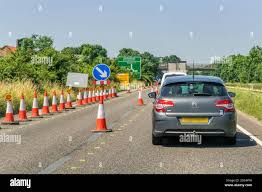car: (153, 74, 235, 146)
cone: (92, 96, 111, 136), (1, 99, 16, 126), (29, 92, 42, 118), (18, 96, 29, 121), (40, 91, 51, 115), (59, 90, 67, 110), (51, 91, 58, 113), (136, 90, 144, 108), (66, 90, 73, 108), (83, 88, 89, 105), (77, 91, 82, 107), (89, 88, 93, 103)
